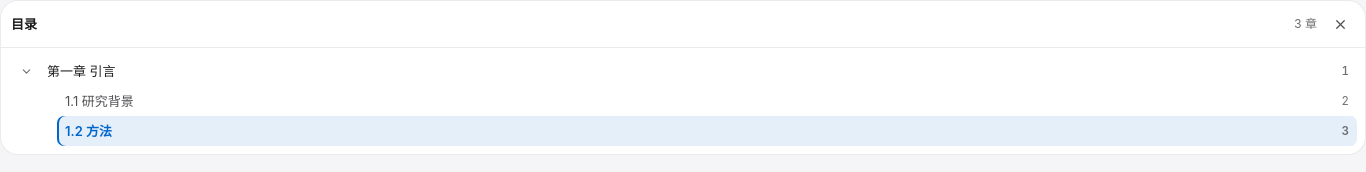
Scenario: OutlinePanel › collapses a chapter and hides its children
Click the button named "收起「第一章 引言」" at (26, 71), box [15,57,37,85]
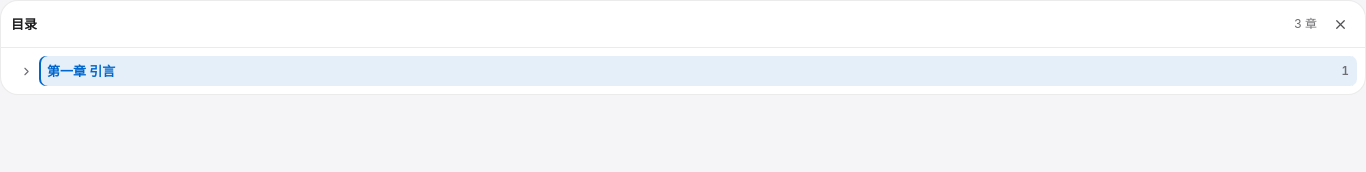
expect the button "1.2 方法" is gone: met
